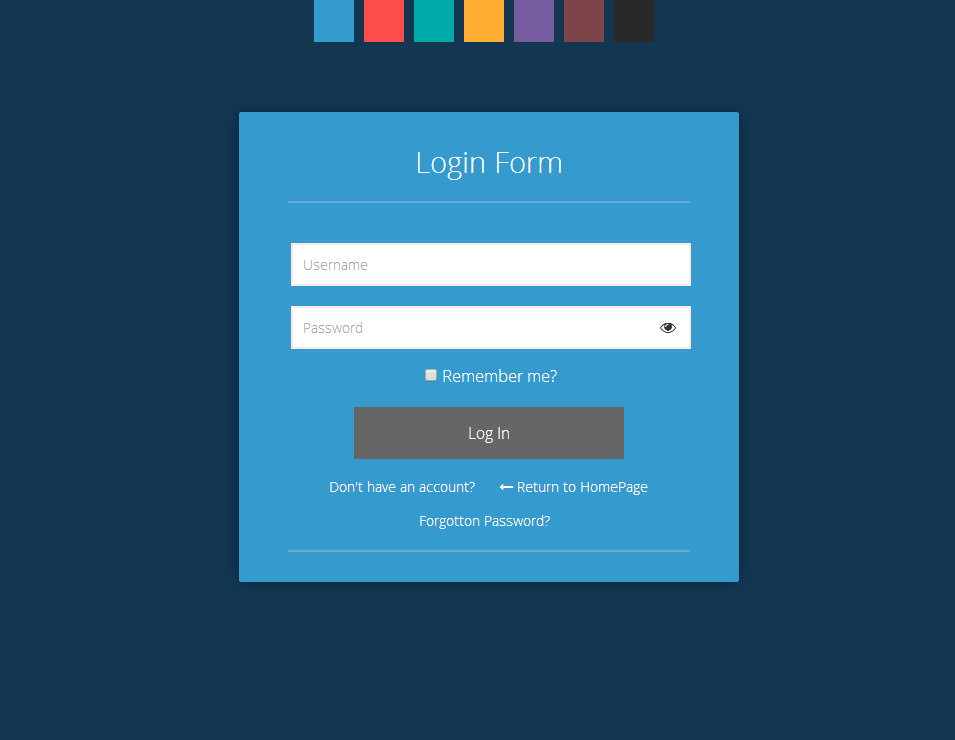_form_: (283, 143, 699, 559)
button: (352, 406, 626, 460)
checkbox: (424, 369, 442, 383)
checkbox_with_label: (420, 366, 556, 385)
field: (288, 305, 693, 351), (288, 242, 693, 287)
